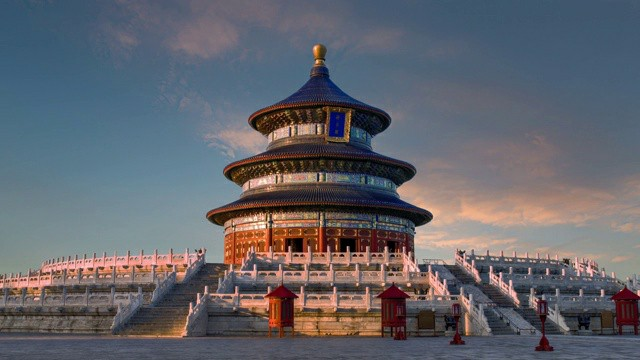Heaven: (205, 43, 435, 269)
